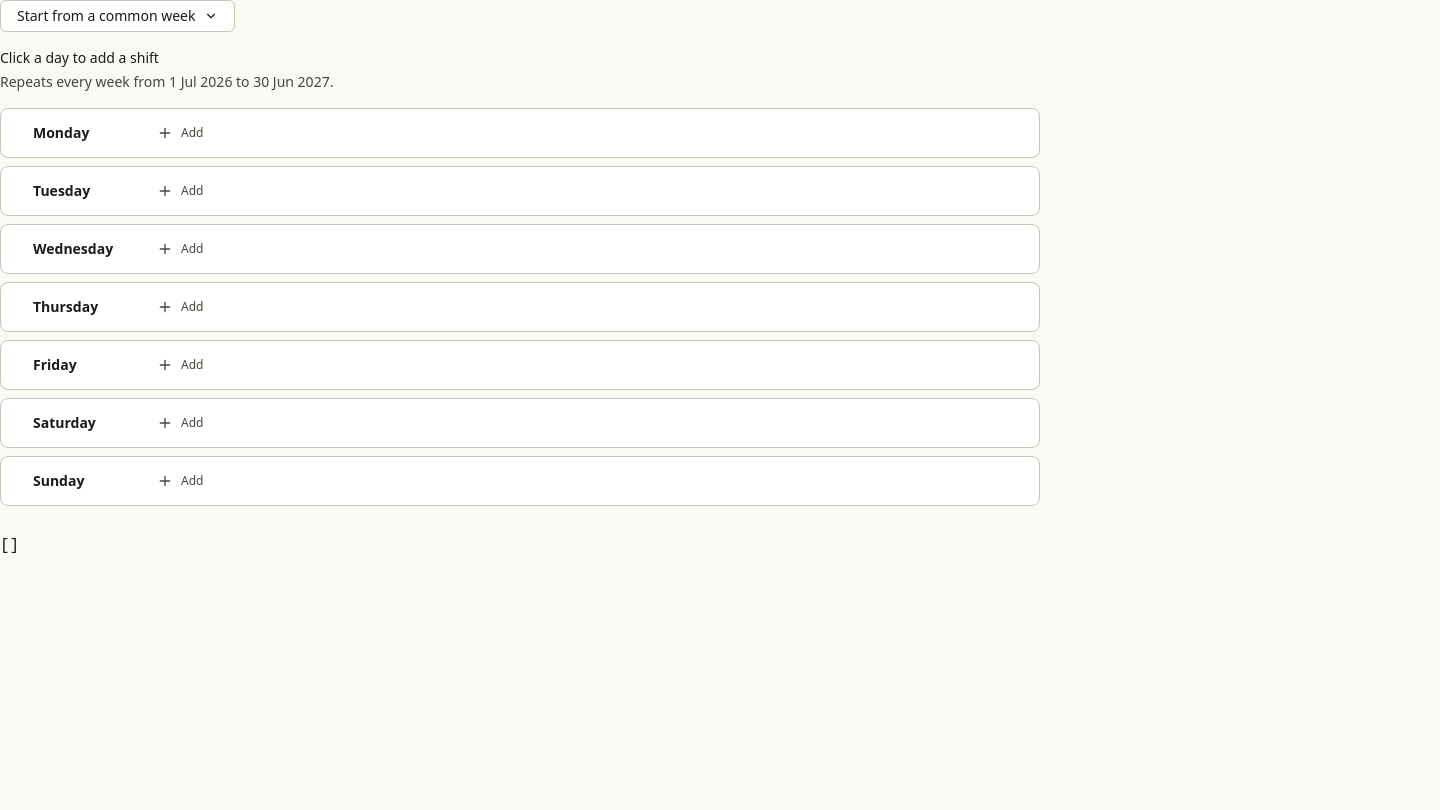
it: WeekStep › adds a shift to a day, selects it and opens the editor with what it is editing
Click the button with aria-label "Add a shift on Monday": (180, 133) [145, 121, 215, 145]
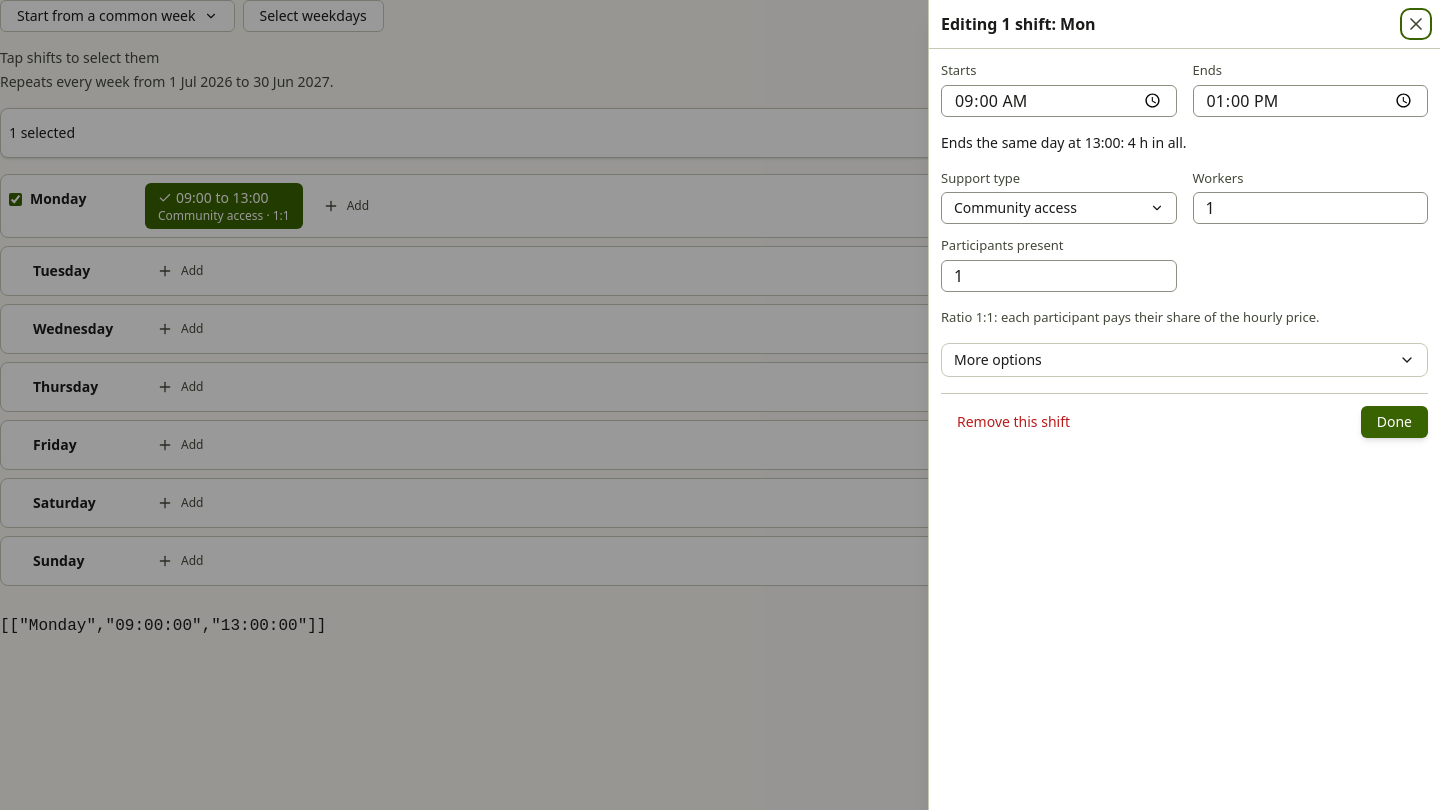
Check: the dialog "Editing 1 shift: Mon" is shown, box [928, 0, 1439, 809]
